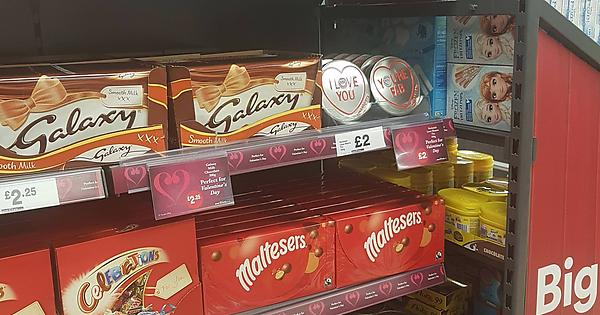Malteasers: (197, 223, 337, 309), (329, 206, 465, 279)
